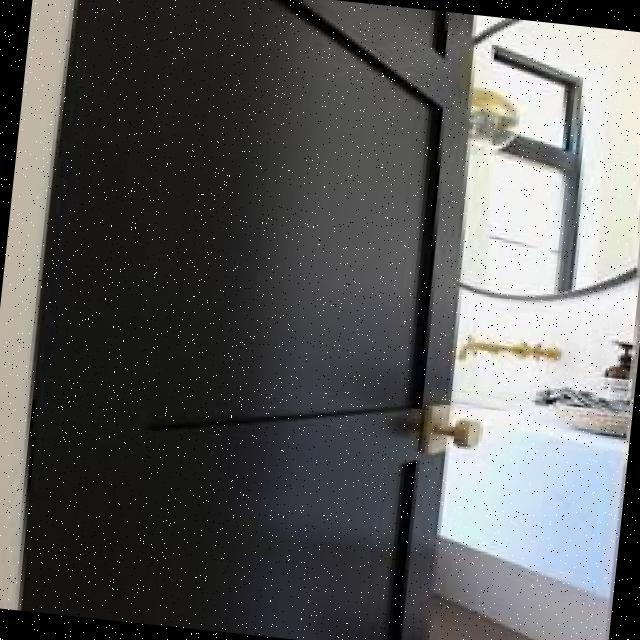Door: (0, 0, 526, 640)
